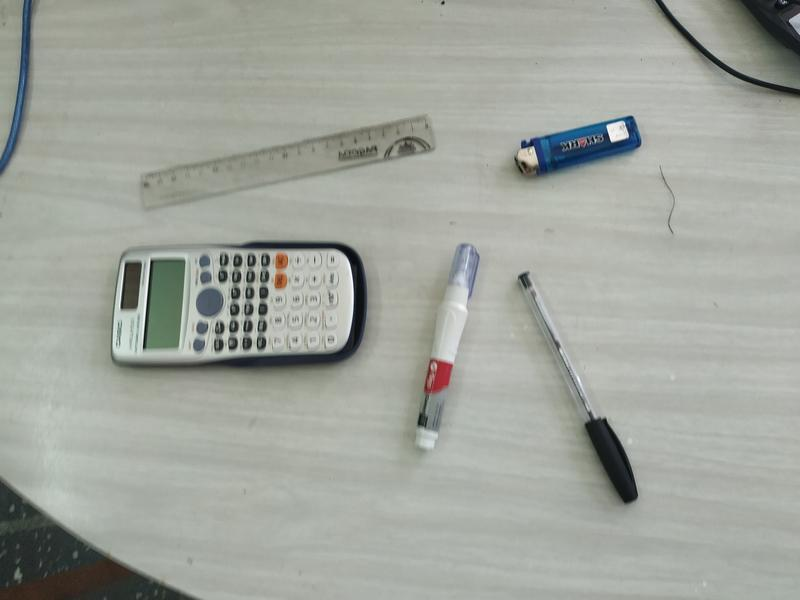calculadora: (106, 239, 368, 368)
corrector: (405, 232, 486, 462)
encendedor: (509, 110, 644, 192)
lapicera: (512, 261, 644, 511)
regla: (135, 108, 440, 224)
